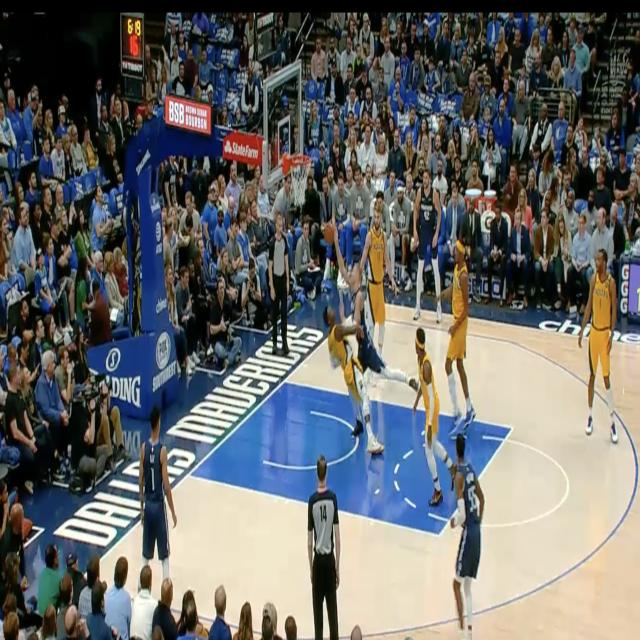Foul: (314, 242, 412, 471)
